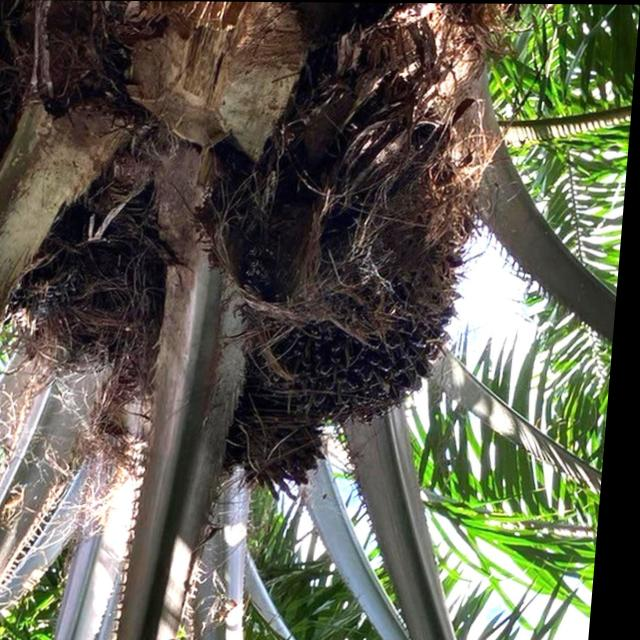ripe: (198, 89, 502, 441)
